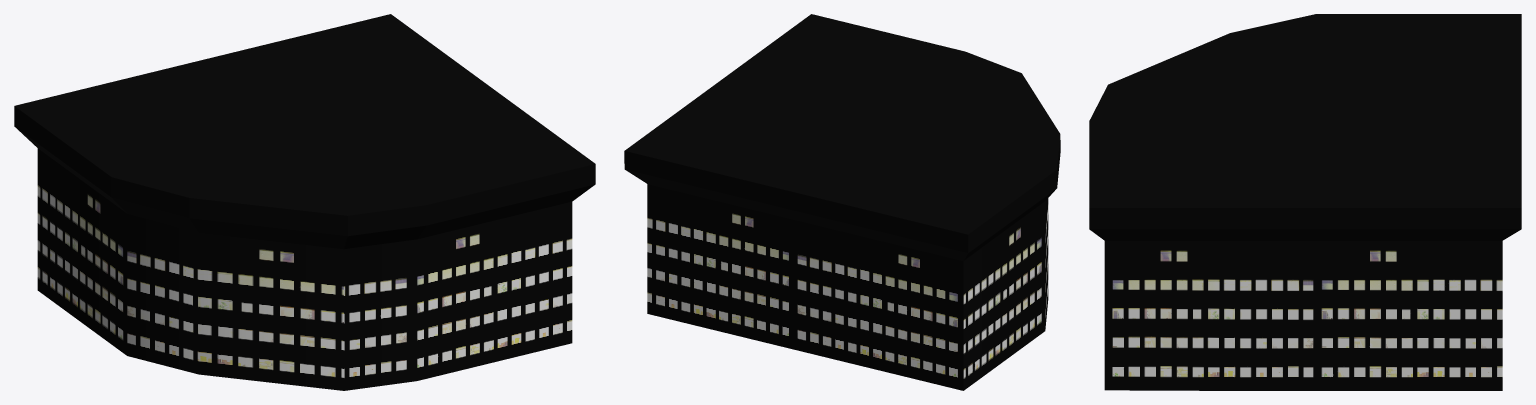
File: building26.FBX
3 views of the same model, side by side, from view 1: azimuth 30°, elevation 25°; view 2: azimuth 150°, elevation 25°; view 3: azimuth 270°, elevation 25° (orthographic). The views are drawn at different scales.
Visible parts, largest first — view 1: Box003; view 2: Box003; view 3: Box003.
Boxes of the visible parts, box(x1,y1,x2,y2) form: Box003: box(14, 14, 595, 390); Box003: box(624, 14, 1060, 390); Box003: box(1089, 14, 1521, 390).
Bounding box in the file's own units: 302 × 139 × 284.
